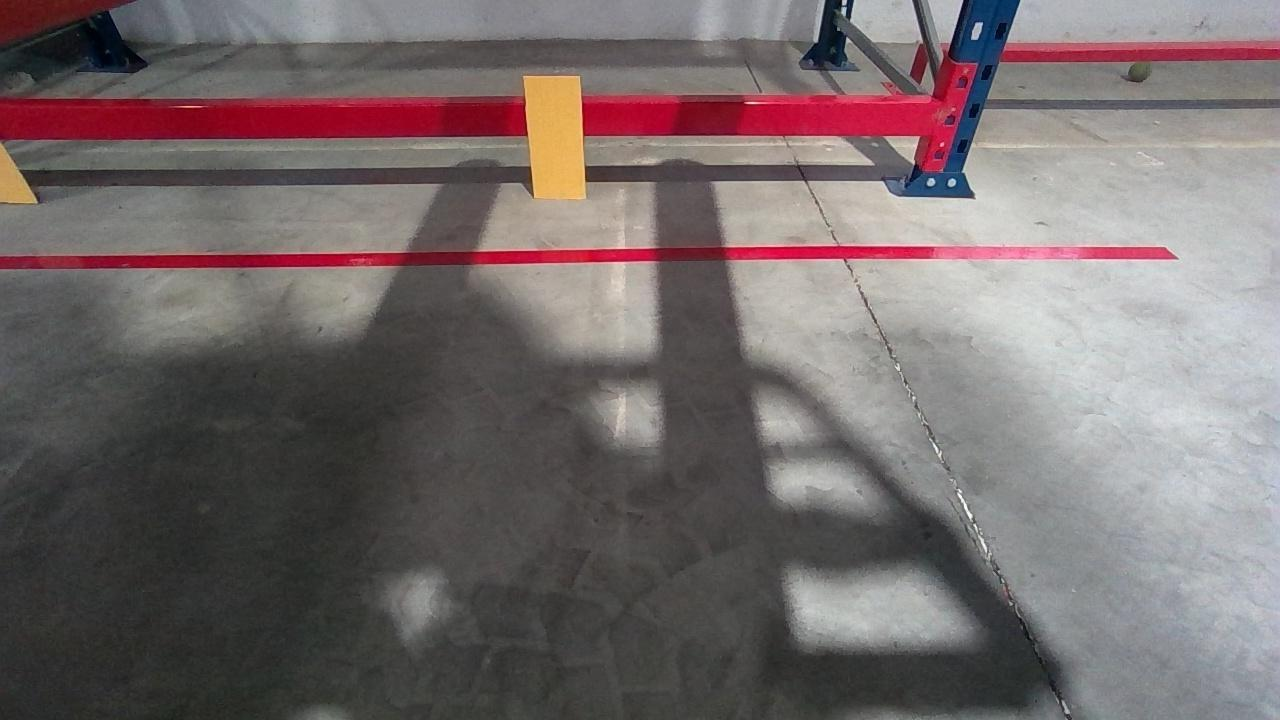h_rack: (0, 100, 943, 140)
orange_strip: (522, 74, 585, 197), (0, 143, 39, 203)
red_line: (0, 240, 1177, 270)
